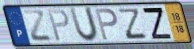P: (93, 8, 119, 42), (47, 8, 71, 43)
U: (68, 6, 100, 44)
Z: (140, 7, 174, 41), (22, 9, 54, 43), (118, 8, 148, 41)
